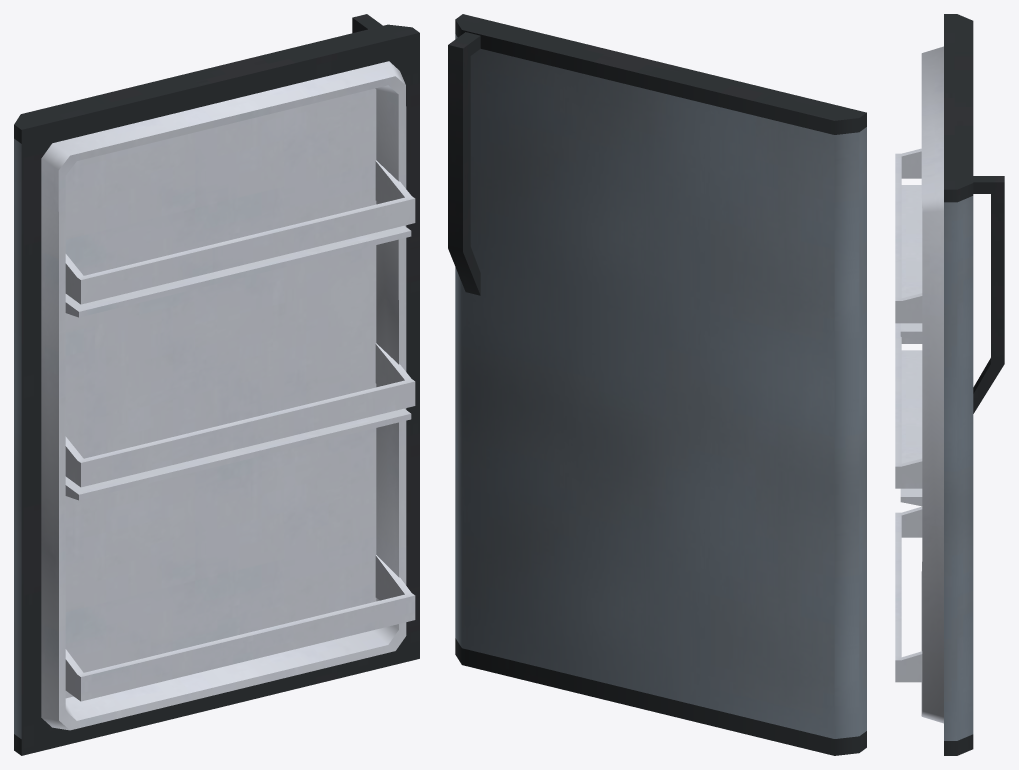
File: Refrigerator_door_01.glb
3 renders of one model, left to right at view 1: azimuth 30°, elevation 25°; view 2: azimuth 150°, elevation 25°; view 3: azimuth 270°, elevation 25°, orthographic. The views are drawn at different scales.
Visible parts, largest first — view 1: Refrigerator_door_01; view 2: Refrigerator_door_01; view 3: Refrigerator_door_01.
Boxes of the visible parts, x1=… form: Refrigerator_door_01: x1=14, y1=14, x2=419, y2=755; Refrigerator_door_01: x1=448, y1=14, x2=866, y2=755; Refrigerator_door_01: x1=895, y1=14, x2=1004, y2=755.
Bounding box in the file's own units: 0.9313 × 1.4 × 0.245.
Materials: 3 (3 with a texture image).
